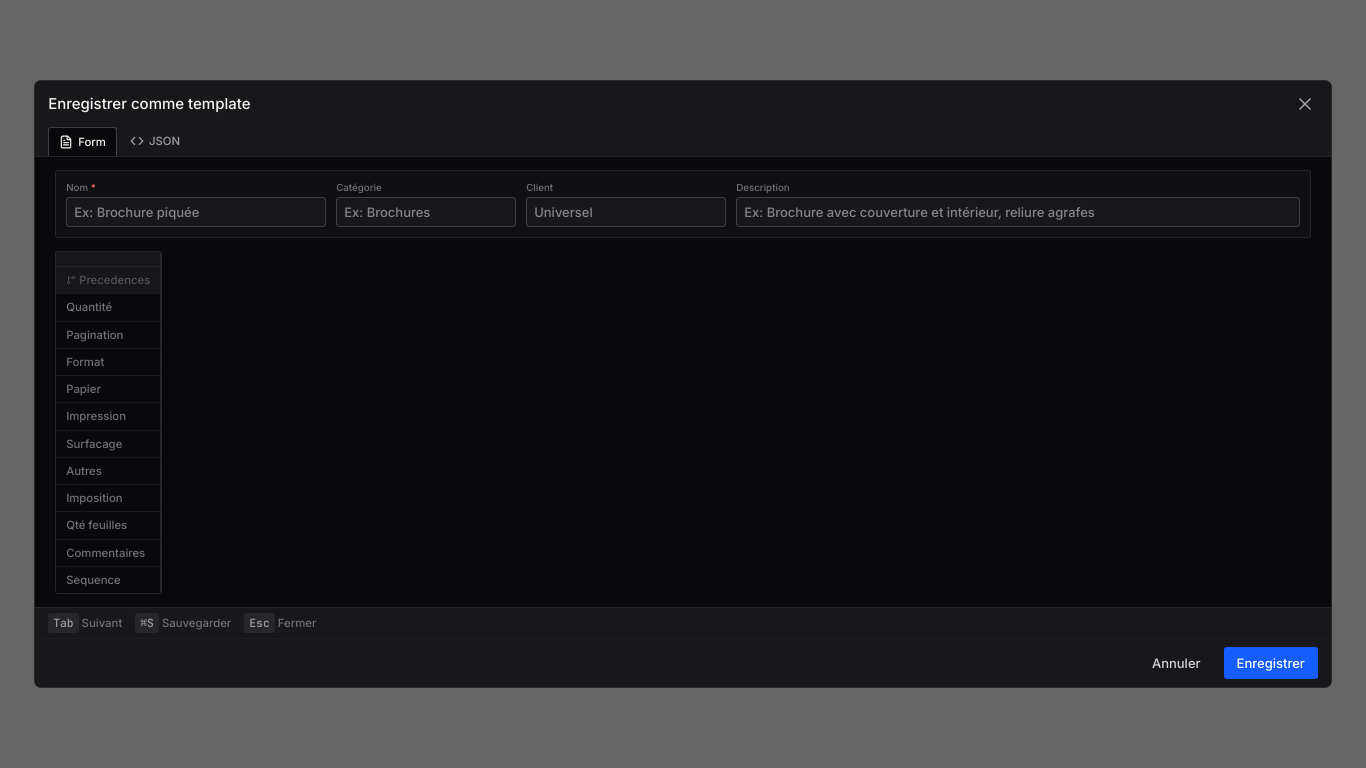
Test: JcfTemplateEditorModal › validation › shows error when saving without name
The image size is (1366, 768).
Click the button with test id "template-editor-save". click: (1271, 663)
box: [1224,647,1318,680]
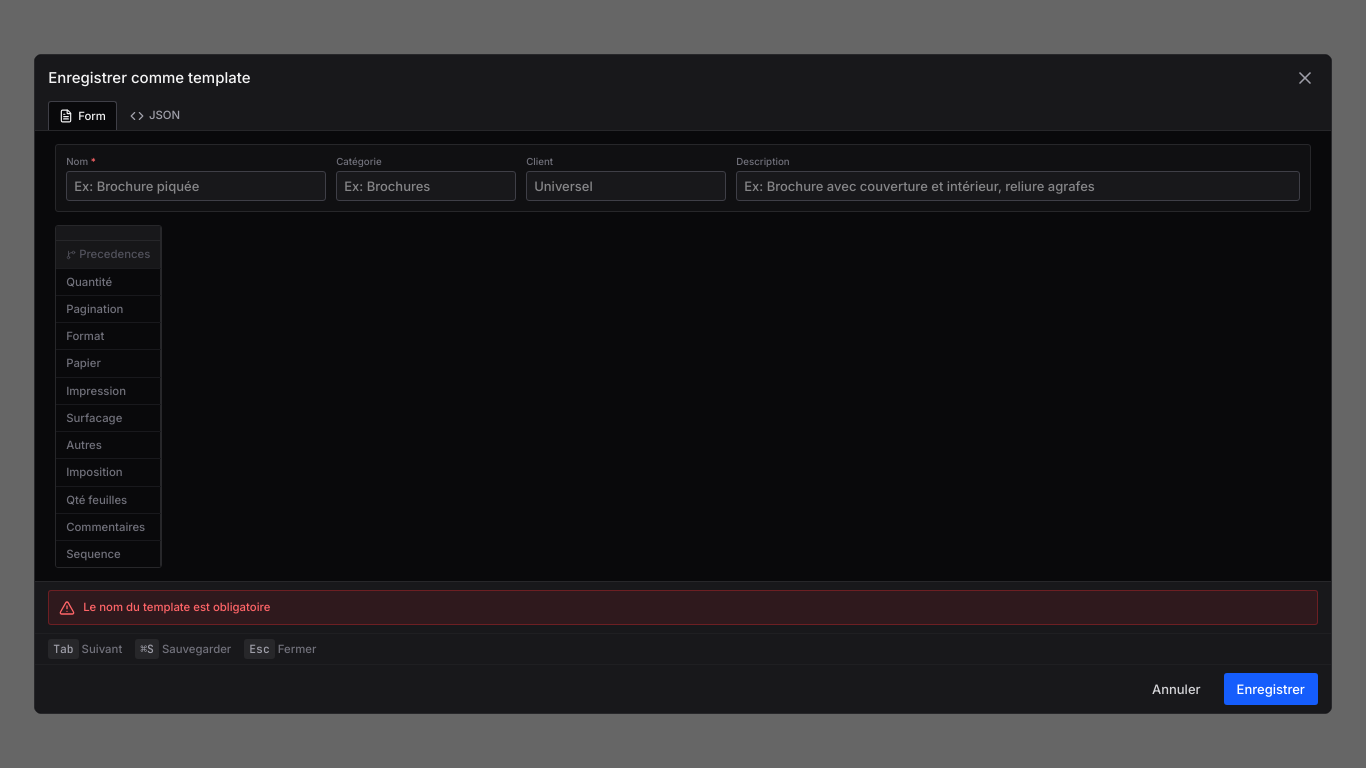
Check: the text "Le nom du template est obligatoire" is shown, box [83,599,270,616]
